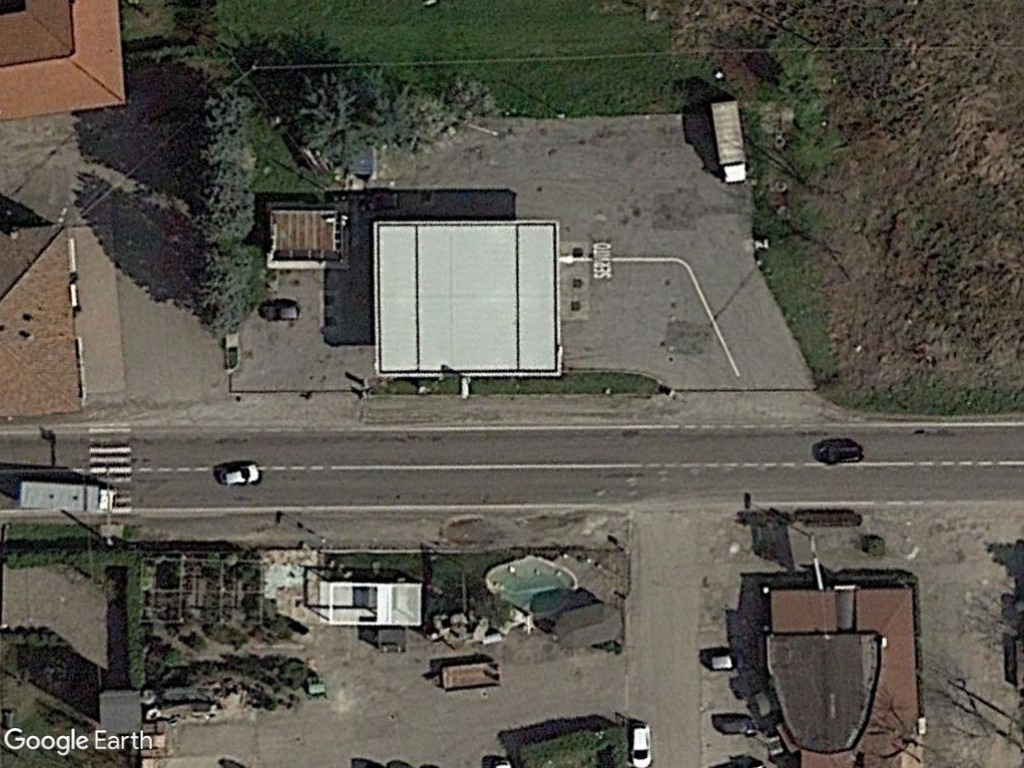car: (215, 459, 267, 492), (626, 717, 658, 768), (258, 297, 305, 325), (704, 650, 750, 674)
truck: (14, 474, 123, 521), (710, 94, 756, 188)
